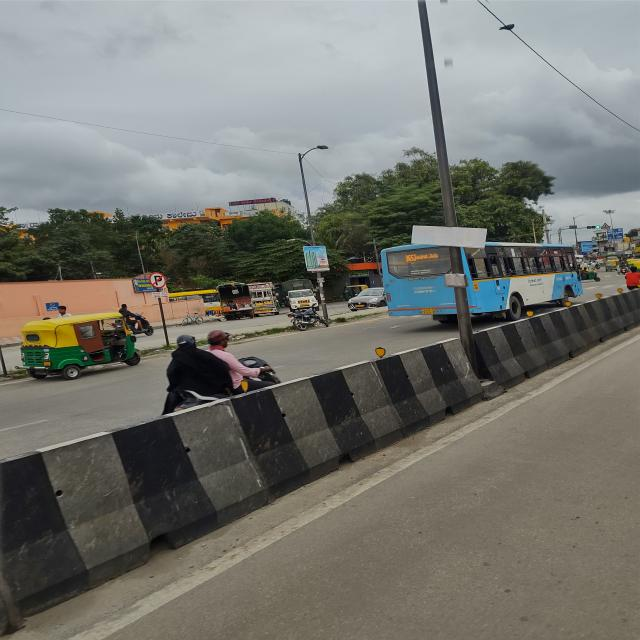bus: (369, 230, 597, 318)
display: (403, 252, 440, 263)
dnumber: (404, 254, 417, 262)
